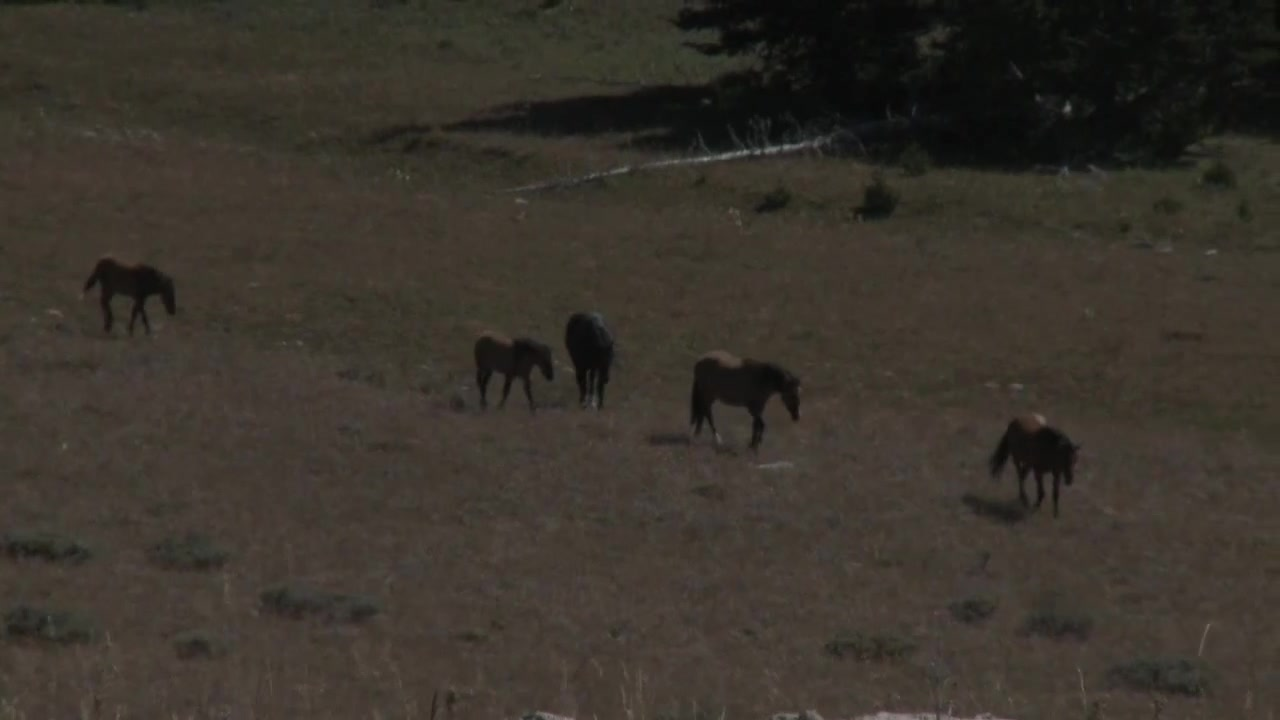horse: (686, 349, 806, 454), (984, 419, 1085, 518), (82, 257, 183, 341), (466, 332, 562, 413), (561, 302, 628, 416)
